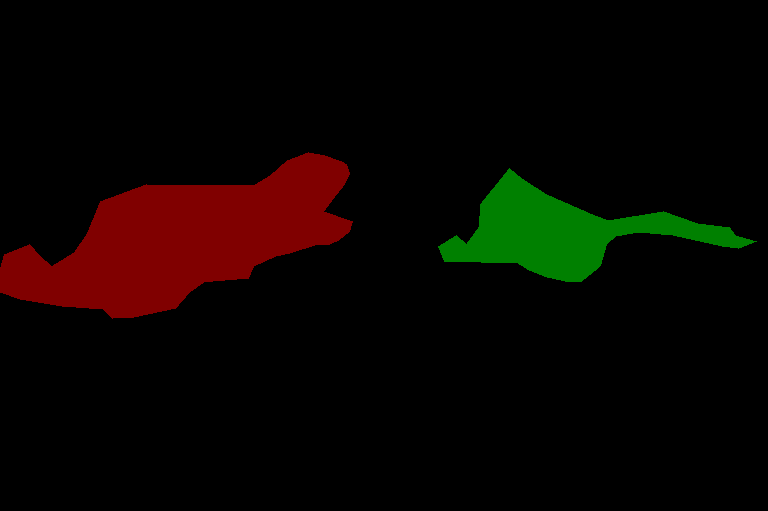fire: (0, 152, 352, 318), (438, 168, 756, 281)
